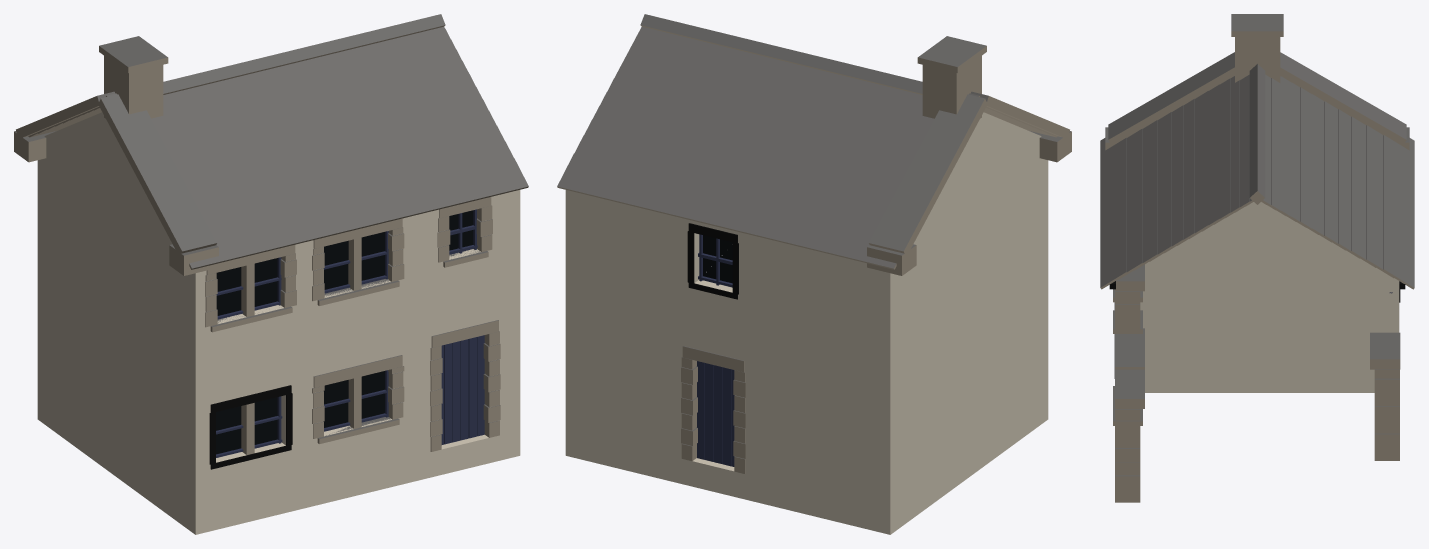
The model's file is context.dales.house_03.glb.
3 views of the same model, side by side, from view 1: azimuth 30°, elevation 25°; view 2: azimuth 150°, elevation 25°; view 3: azimuth 270°, elevation 25° (orthographic). The views are drawn at different scales.
Visible parts, largest first — view 1: main__render_ccb, main__slate_666, main__stone_a98, main__glass_dark, main__paint_335, main__rubber; view 2: main__render_ccb, main__slate_666, main__stone_a98, main__paint_335, main__rubber, main__glass_dark; view 3: main__slate_666, main__render_ccb, main__stone_a98.
Boxes of the visible parts, x1,y1,x2,y2 form: main__render_ccb: (37,112,520,534); main__slate_666: (14,14,528,438); main__stone_a98: (14,25,528,454); main__glass_dark: (216,210,473,454); main__paint_335: (216,209,484,457); main__rubber: (209,385,292,469); main__render_ccb: (565,112,1048,534); main__slate_666: (557,14,1071,459); main__stone_a98: (557,25,1071,473); main__paint_335: (697,234,734,466); main__rubber: (687,223,738,299); main__glass_dark: (703,235,732,283); main__slate_666: (1100,14,1414,476); main__render_ccb: (1140,202,1399,392); main__stone_a98: (1100,31,1414,502).
Size of the model in its own units: 7.03 by 8.27 by 6.24.
